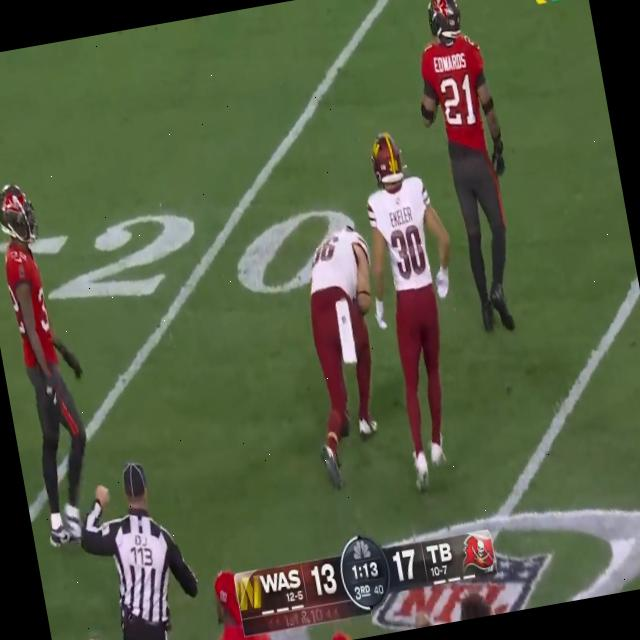Player: (410, 0, 533, 345), (354, 128, 471, 484), (0, 179, 101, 549), (282, 220, 406, 488)
Referee: (82, 444, 205, 640)
